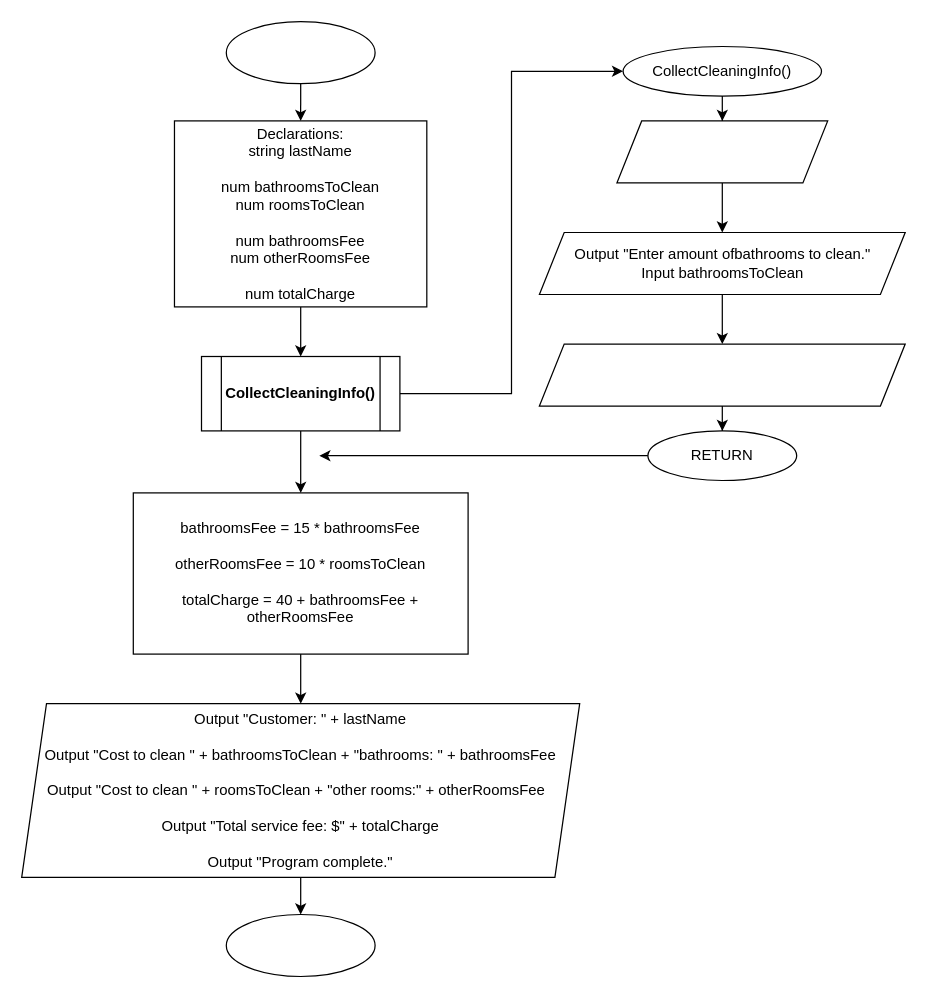
Some shapes in this 928 by 998 pixel diagram are drawn without their labels. The box of each missing label's shape, as (x1, y1, x2, y2) in pixels:
Output "Enter amount of other rooms to clean." Input roomsToClean: (538, 343, 905, 406)
Output "Enter last name." Input lastName: (616, 120, 828, 183)
START: (225, 20, 375, 84)
STOP: (225, 913, 375, 976)
